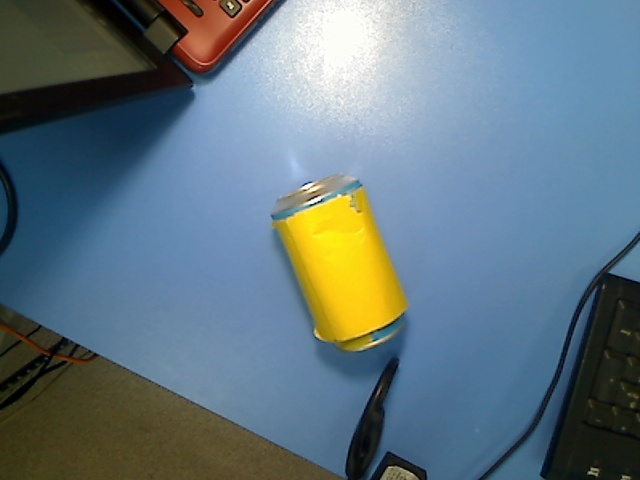can: (268, 171, 413, 355)
